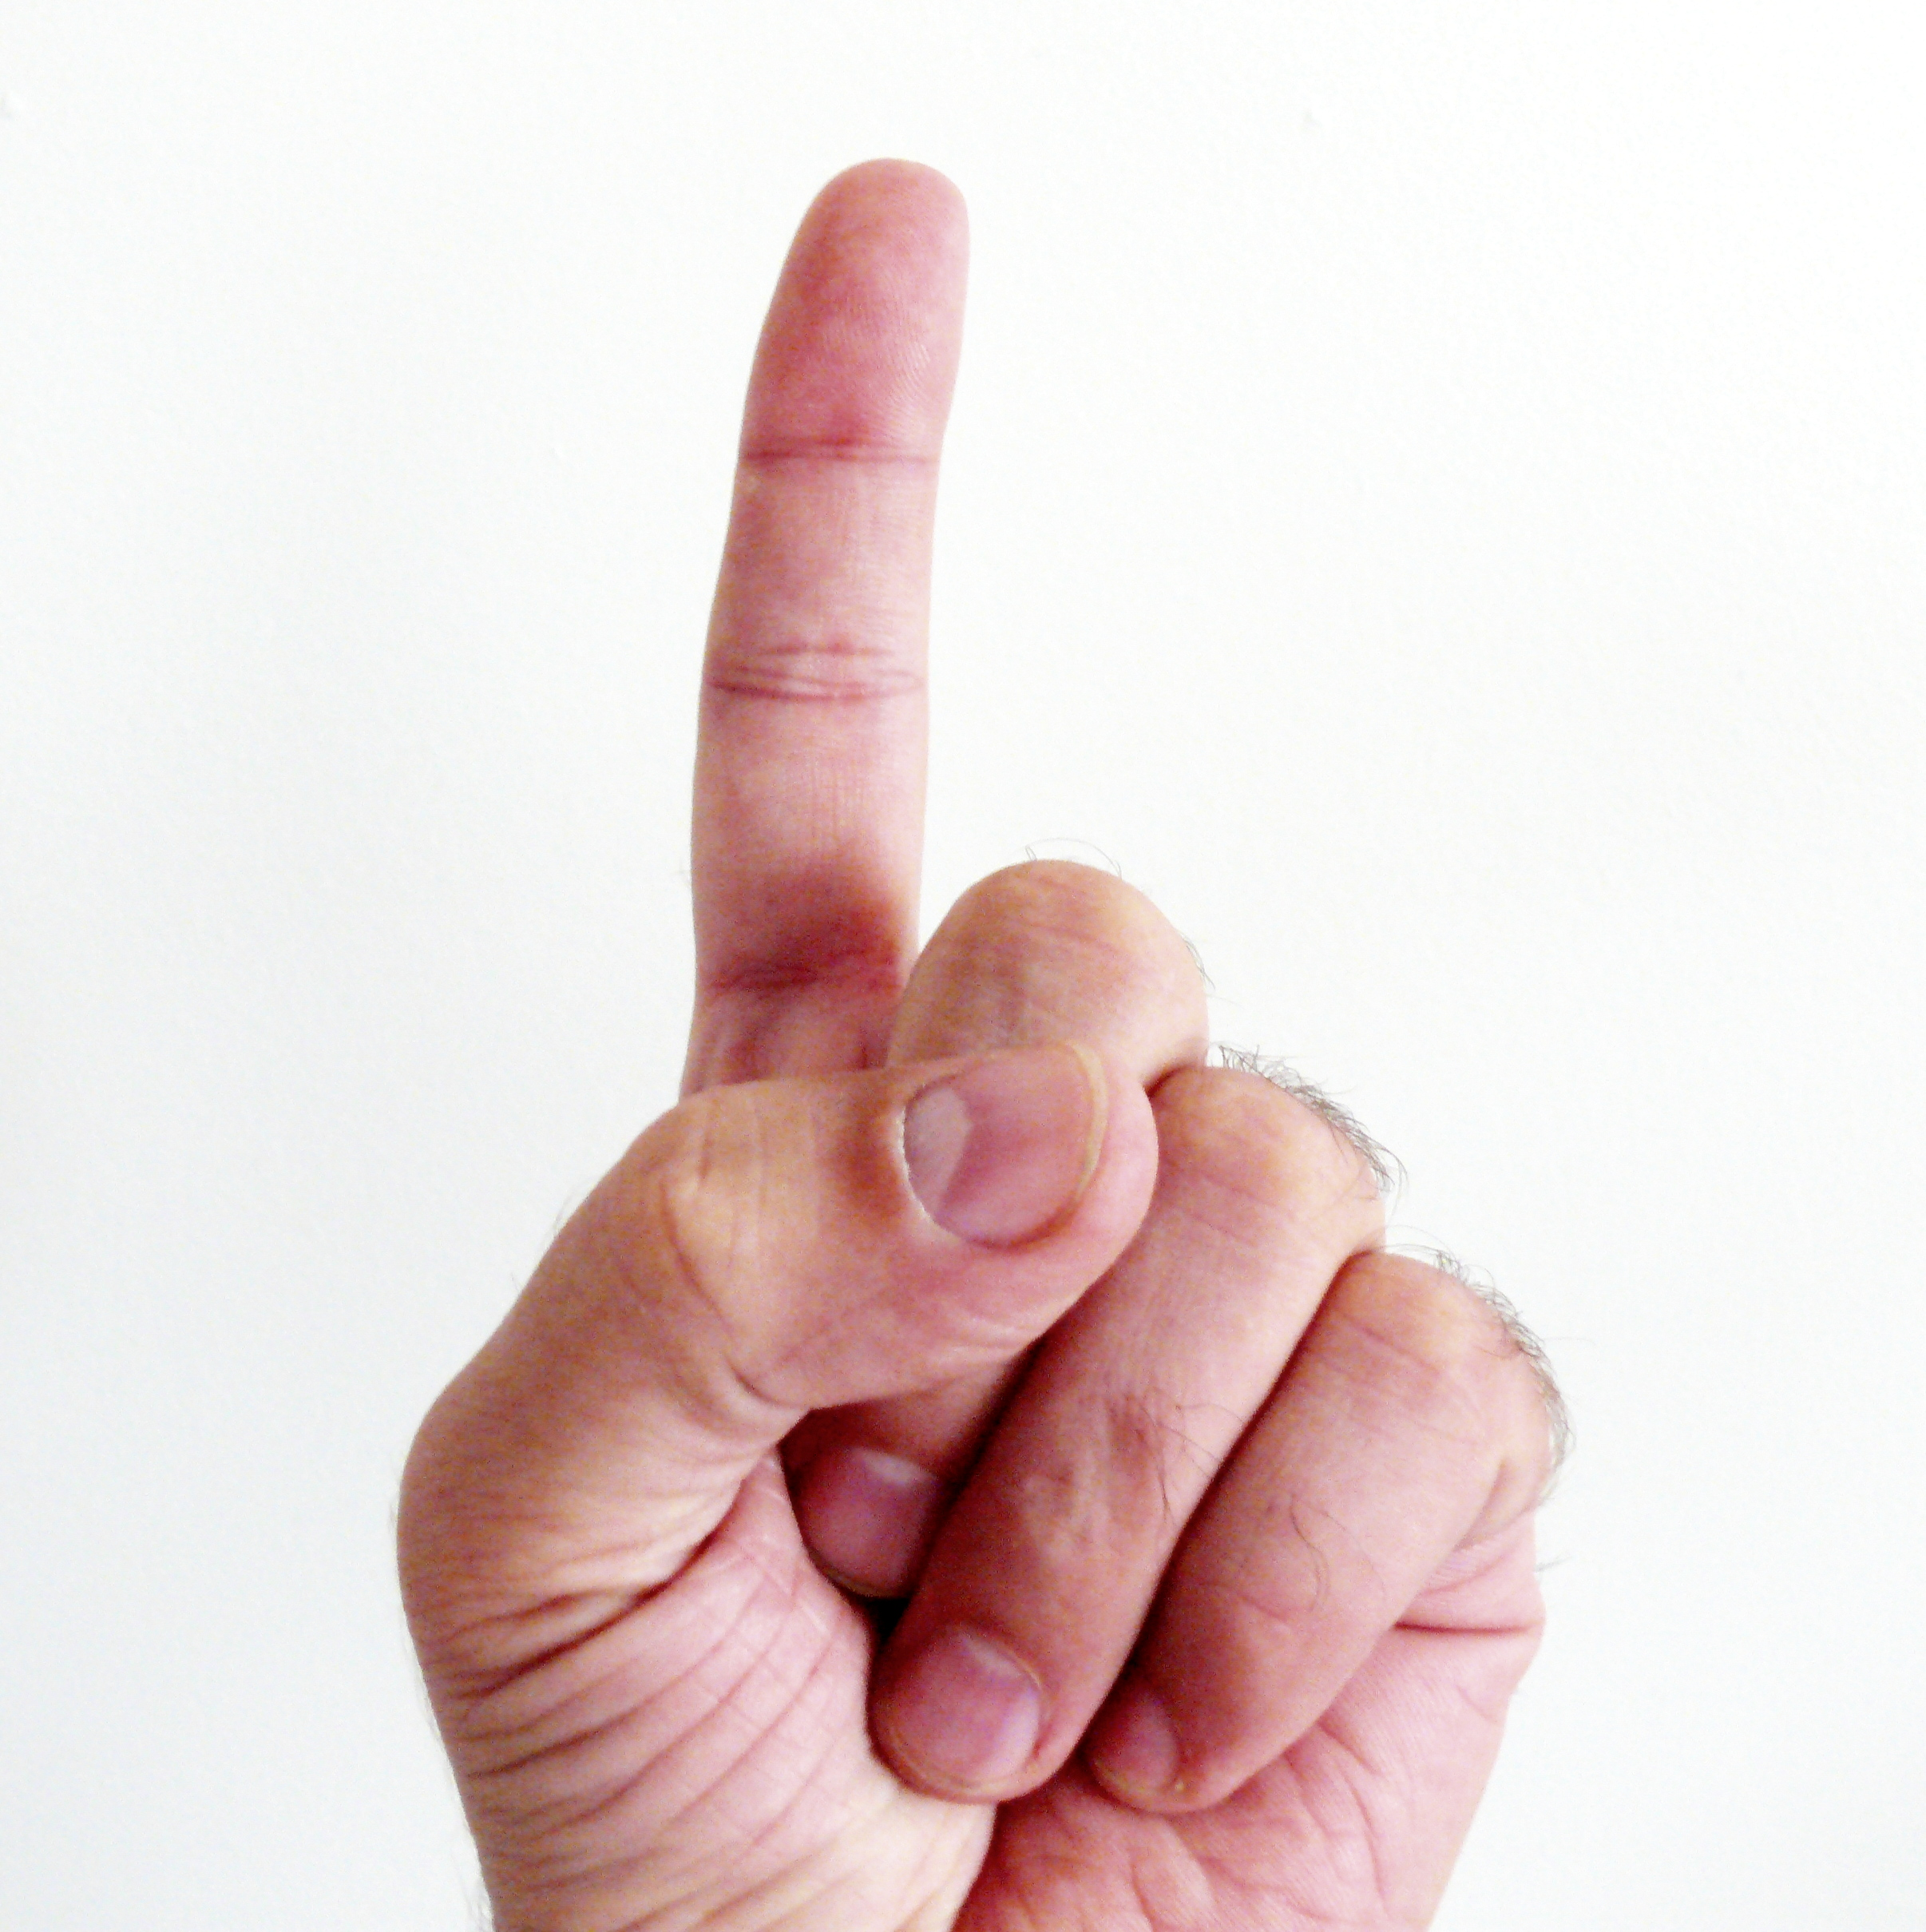move: (390, 155, 1554, 1932)
